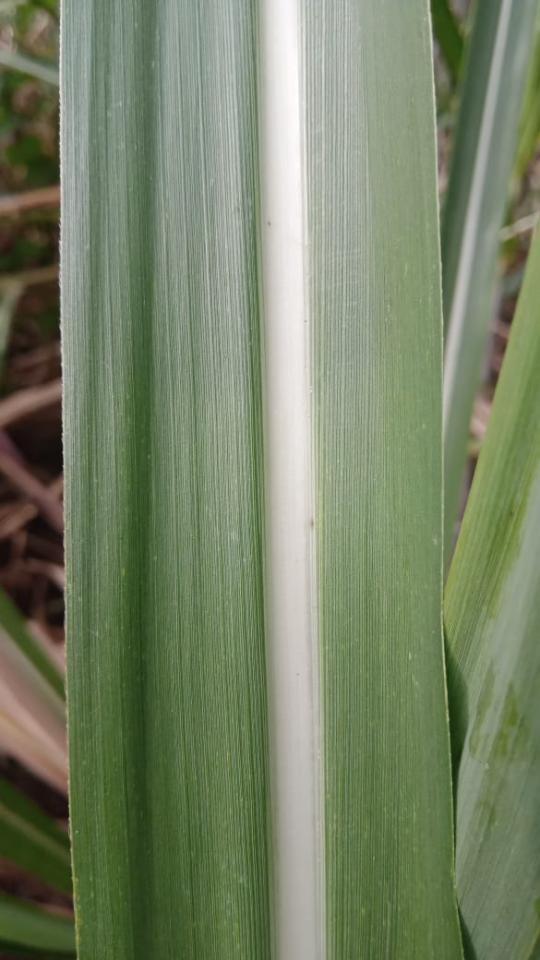Healthy: (61, 0, 463, 959), (440, 219, 539, 959)
